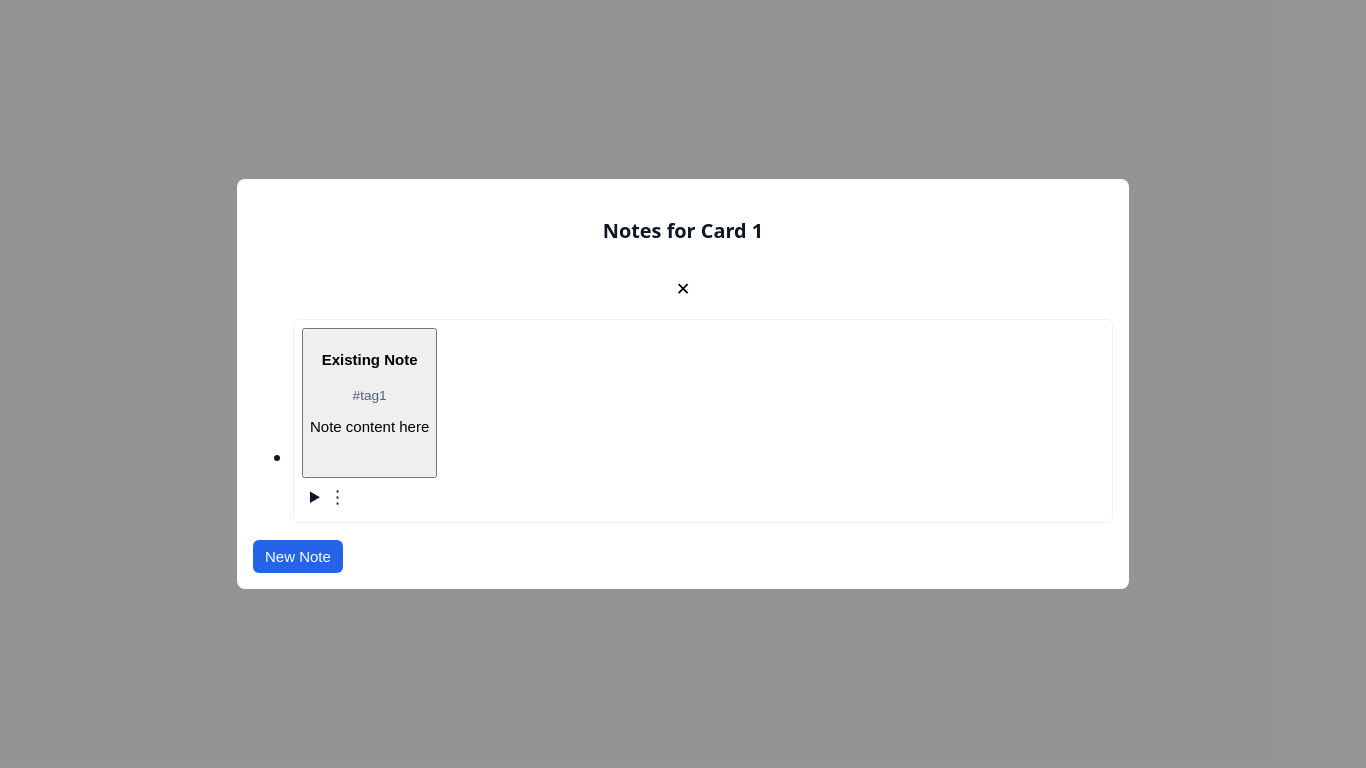
Test case: NoteModal rapid-save uses tick() to capture freshly-set input values
// open new editor
Click the button "New Note": (298, 557) x1=253 y1=540 x2=343 y2=573
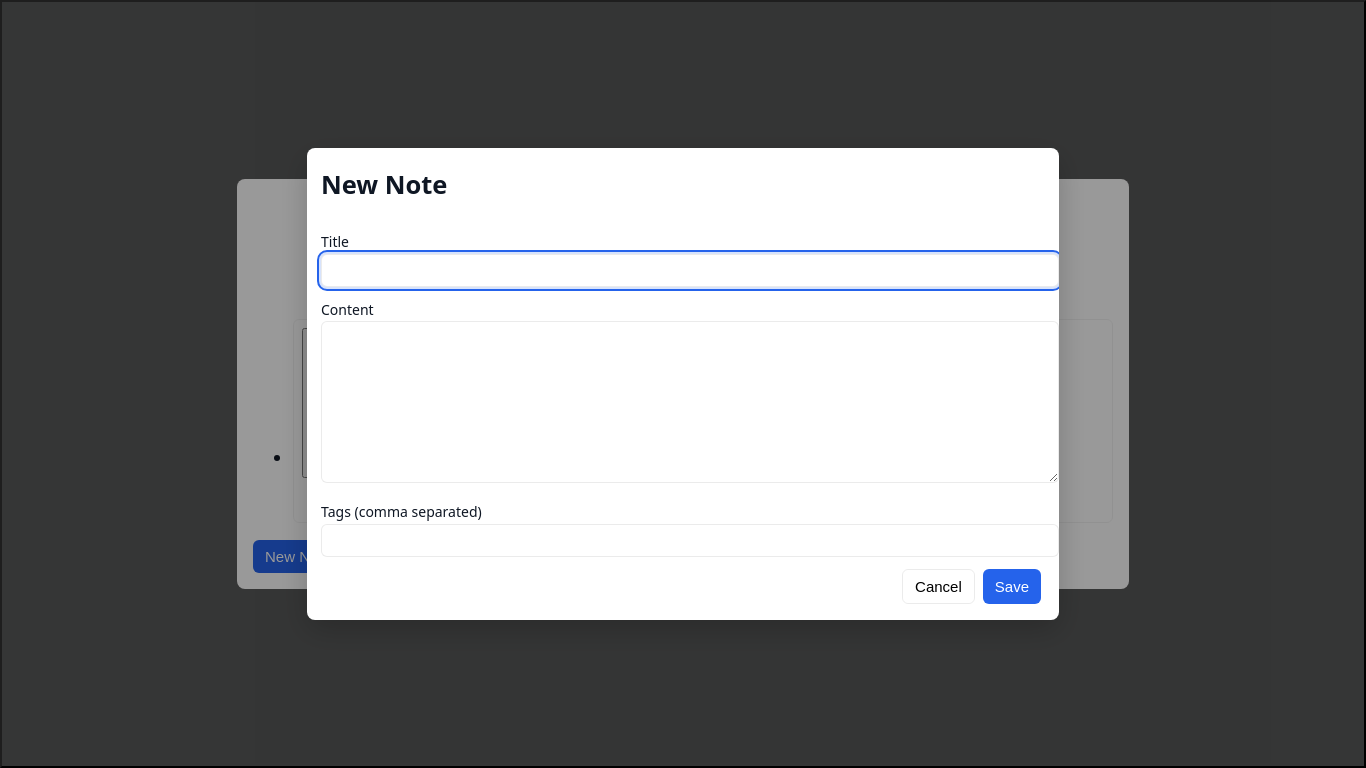
// simulate a rapid user: start filling but don't await, then click Save immediately
In the field labelled "Title": (690, 270) x1=321 y1=254 x2=1059 y2=286, type "Race Title"
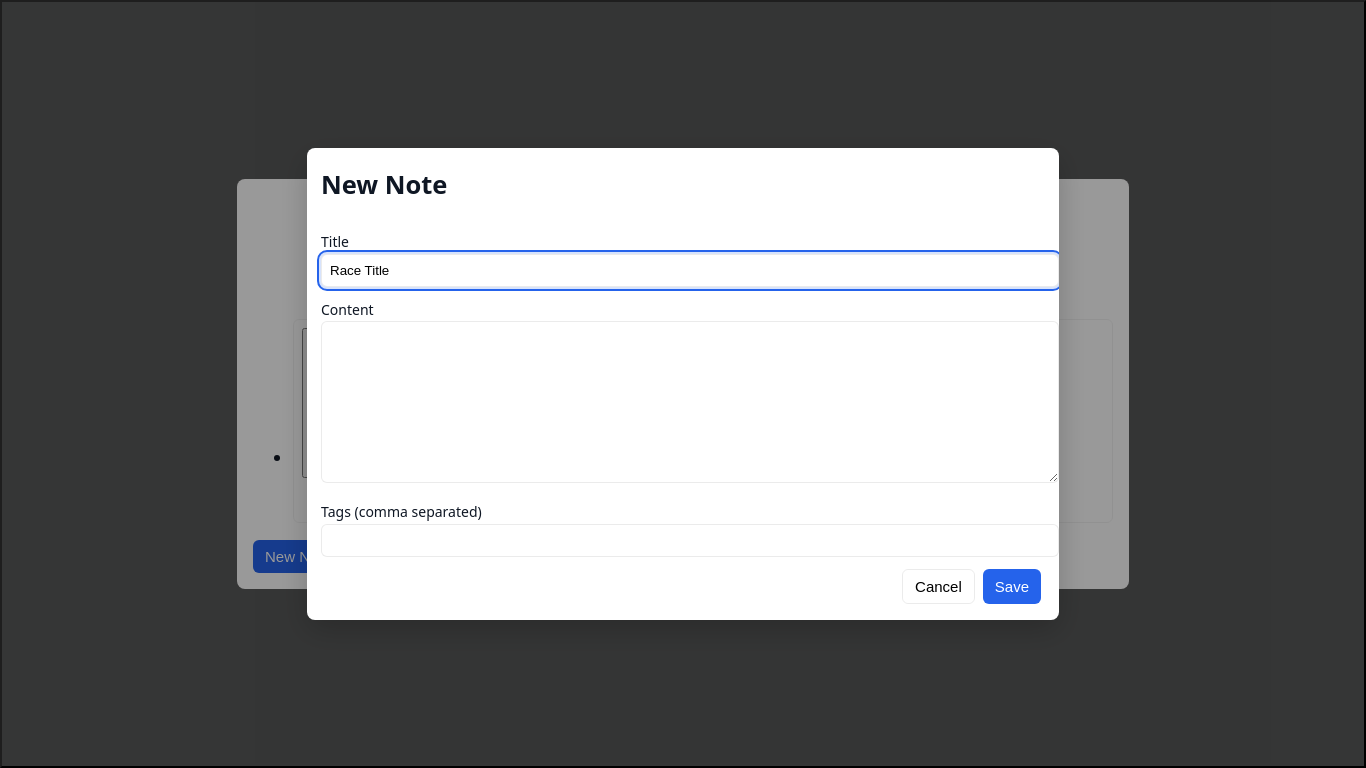
In the text box labelled "Content": (690, 402) x1=321 y1=321 x2=1059 y2=483, type "Race content"
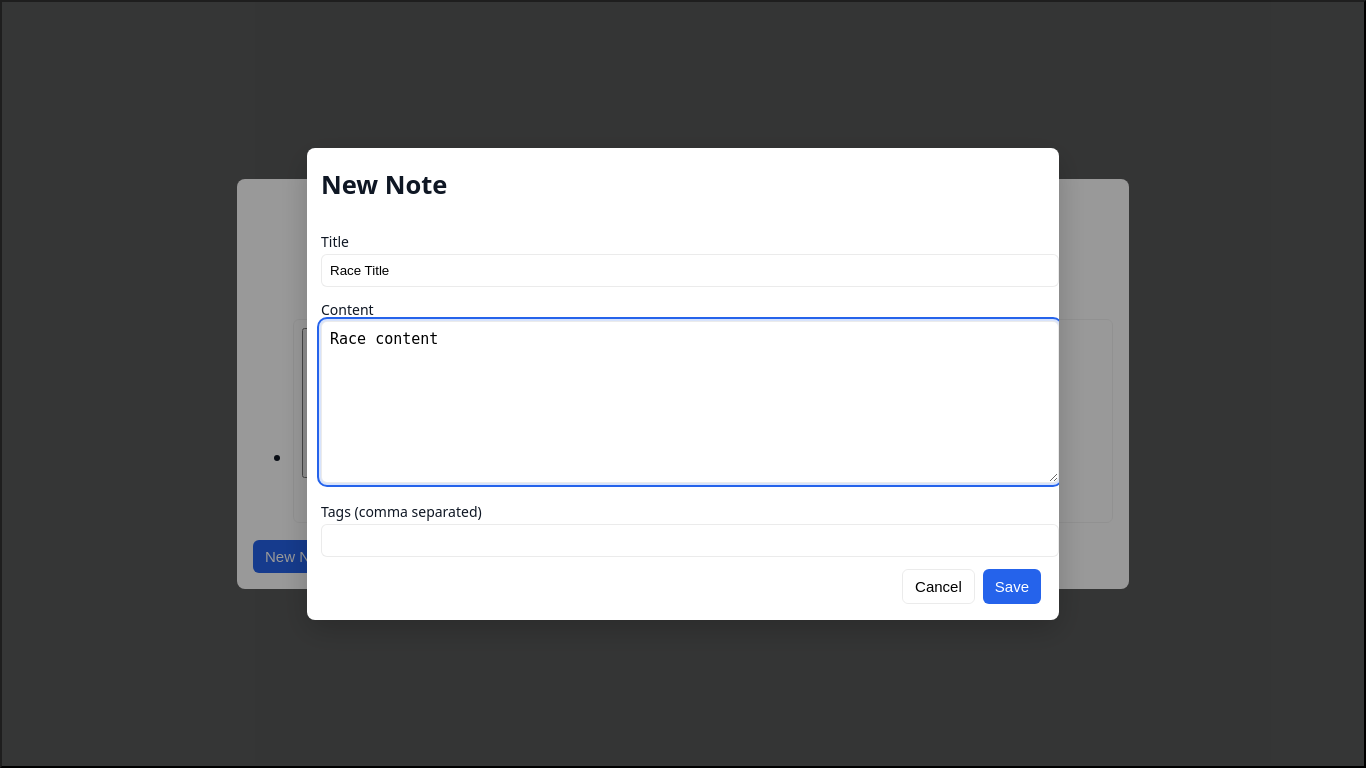
Click the button "Save": (1012, 586) x1=983 y1=569 x2=1041 y2=604
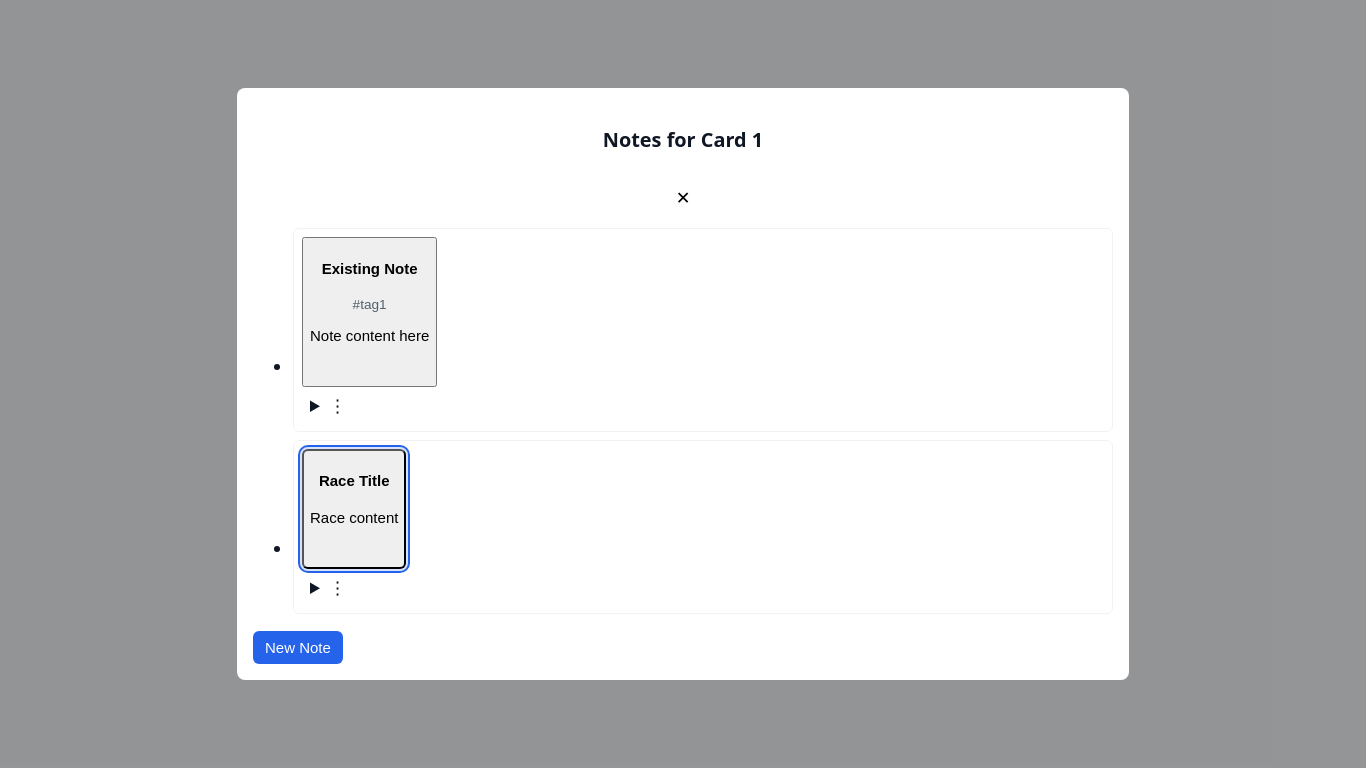
Expected: the heading "Race Title" is shown, x1=319 y1=472 x2=390 y2=489
Expected: the text "Race content" is shown, x1=310 y1=509 x2=398 y2=526
